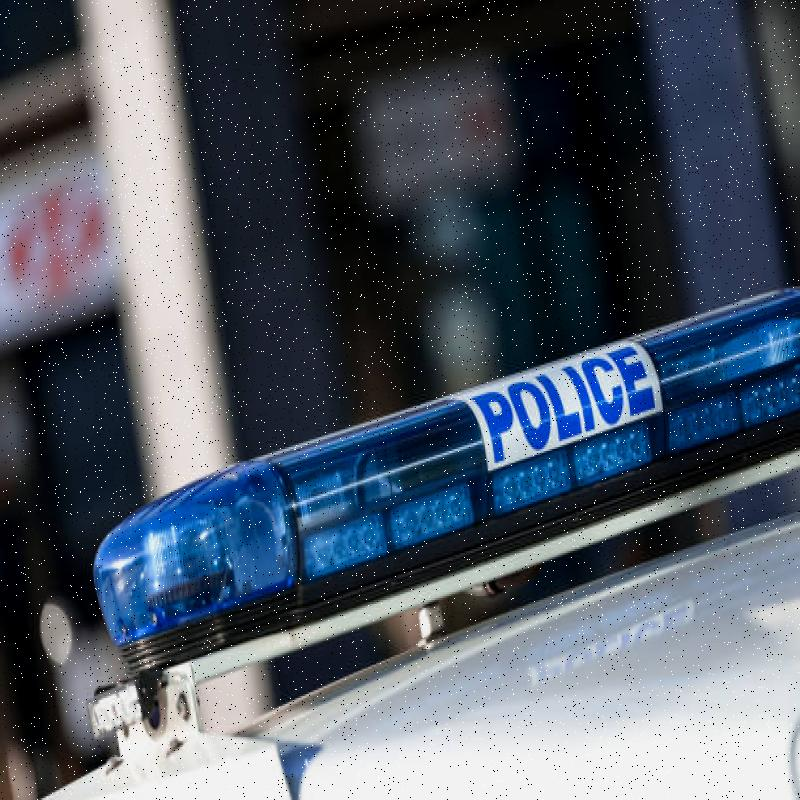AmbulanceSiren: (86, 271, 800, 668)
